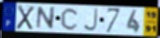4: (126, 9, 141, 35)
7: (105, 7, 122, 34)
C: (60, 7, 80, 31)
J: (82, 8, 99, 32)
N: (35, 6, 57, 31)
X: (16, 4, 36, 31)
